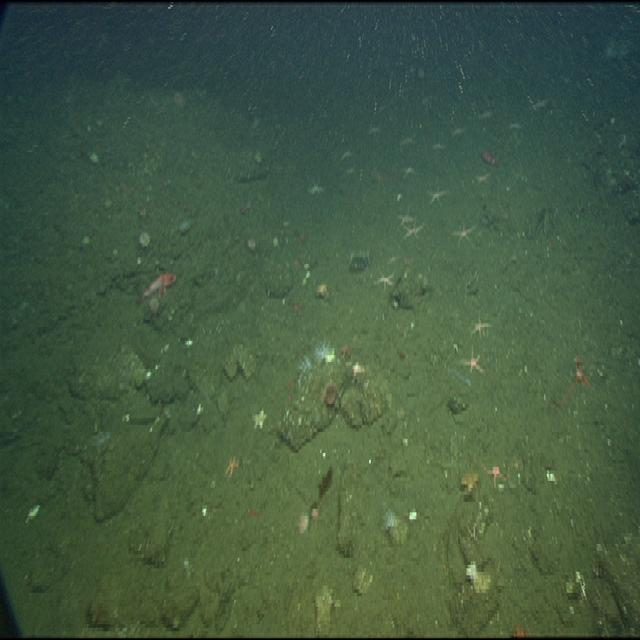Brittle Star: (552, 354, 598, 414), (479, 453, 512, 495), (447, 219, 483, 255), (454, 345, 488, 381), (466, 311, 492, 341), (372, 266, 399, 294), (424, 183, 451, 210), (469, 168, 499, 190), (401, 219, 428, 243), (305, 178, 329, 200), (402, 159, 419, 182), (451, 122, 468, 144)
Not Brittle Star: (134, 266, 180, 309), (379, 505, 414, 551), (462, 558, 496, 598), (316, 339, 339, 367), (479, 147, 506, 170), (248, 409, 271, 434), (322, 383, 341, 411), (222, 454, 240, 482), (460, 469, 480, 493), (245, 231, 260, 259), (293, 514, 310, 535), (311, 507, 319, 519)
